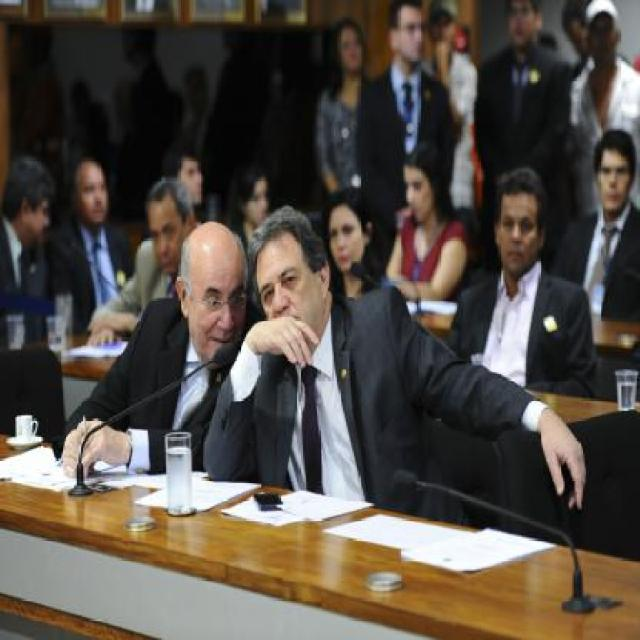obstacle: (0, 0, 640, 514), (89, 202, 263, 500)
